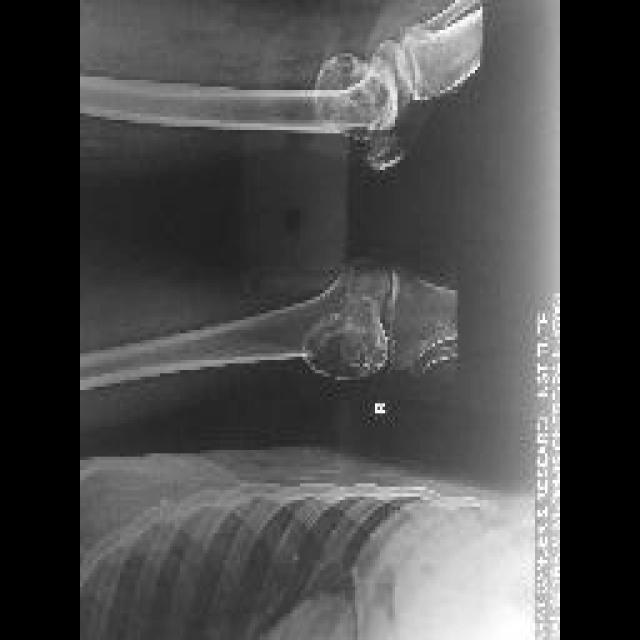bone-cancer: (315, 52, 390, 148), (304, 295, 389, 379)
